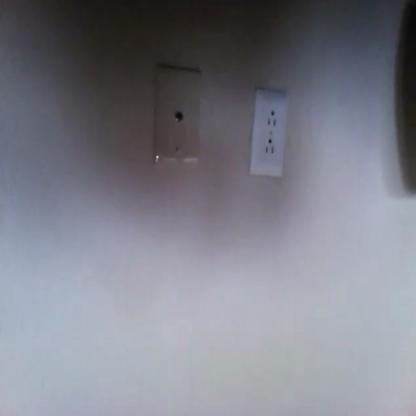OUTLET: (250, 89, 288, 176)
